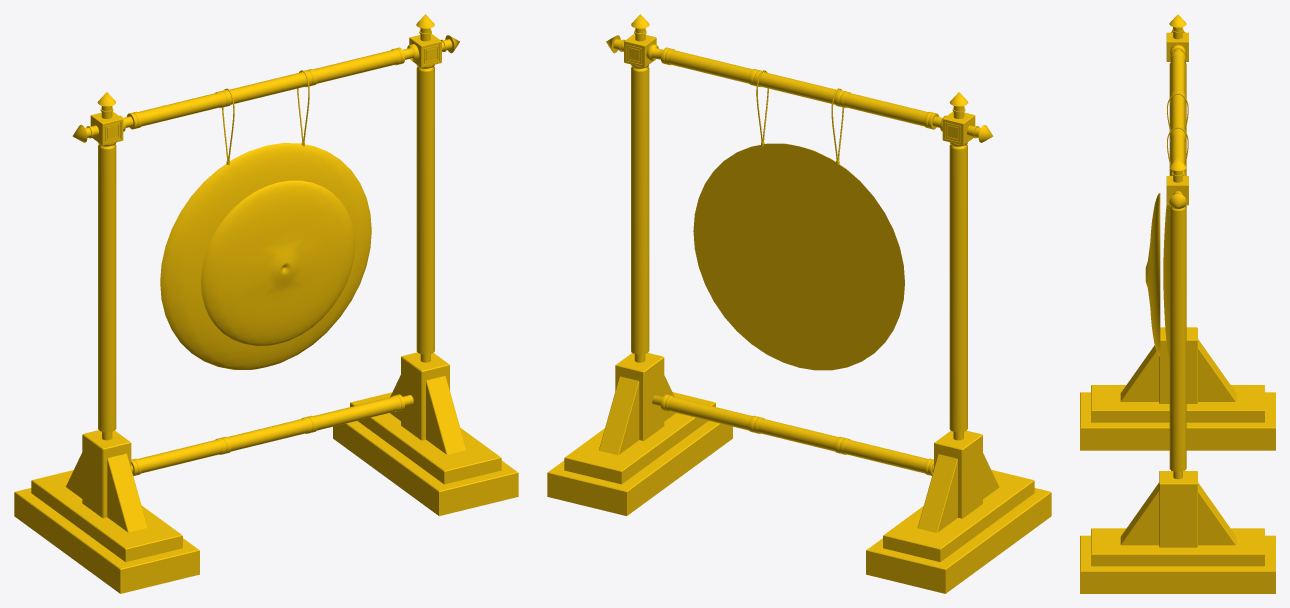
Rendered from Gong.fbx.
3 views of the same model, side by side, from view 1: azimuth 30°, elevation 25°; view 2: azimuth 150°, elevation 25°; view 3: azimuth 270°, elevation 25° (orthographic). The views are drawn at different scales.
Visible parts, largest first — view 1: structure, petit_gong, grand_gong; view 2: structure, grand_gong; view 3: structure, petit_gong, grand_gong, corde.
Part boxes in pixels (x1=…): structure: x1=14, y1=14, x2=518, y2=593; petit_gong: x1=201, y1=180, x2=354, y2=345; grand_gong: x1=160, y1=143, x2=371, y2=369; structure: x1=547, y1=14, x2=1051, y2=593; grand_gong: x1=693, y1=143, x2=904, y2=370; structure: x1=1080, y1=14, x2=1275, y2=593; petit_gong: x1=1145, y1=193, x2=1160, y2=356; grand_gong: x1=1163, y1=205, x2=1169, y2=363; corde: x1=1167, y1=93, x2=1188, y2=165.
Bounding box in the file's own units: 6.01 × 6.54 × 2.77.
